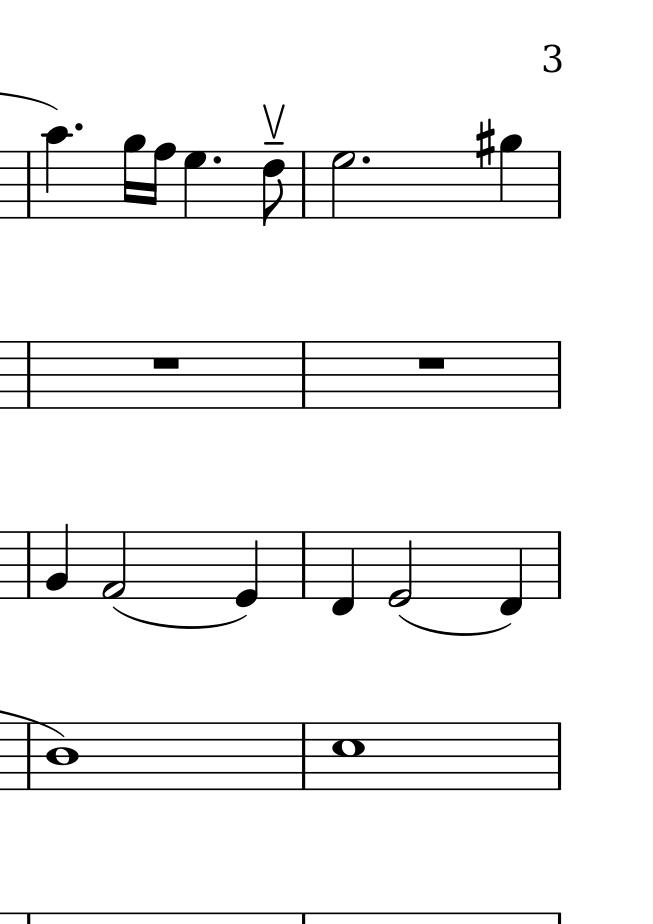16_8: (146, 142, 176, 219)
16_9: (121, 131, 144, 224)
1_4: (45, 719, 80, 792)
1_5: (330, 719, 365, 792)
2_0: (387, 529, 414, 609)
2_1: (101, 530, 128, 601)
2_7: (330, 151, 355, 218)
3: (542, 43, 564, 74)
4_-1: (498, 530, 523, 618), (331, 528, 355, 618)
4_0: (234, 530, 261, 611)
4_10: (43, 124, 69, 222)
4_2: (44, 522, 70, 601)
4_7: (182, 149, 207, 220)
8_6: (261, 149, 287, 228)
8_9: (498, 133, 522, 222)
Rests1: (148, 354, 182, 371), (414, 354, 447, 371)
Sharp: (474, 117, 496, 170)
Single_barline: (551, 341, 567, 409), (551, 532, 567, 599), (551, 722, 567, 788), (296, 724, 312, 788), (552, 152, 567, 219), (20, 533, 35, 597), (296, 534, 311, 598), (297, 152, 311, 218), (21, 341, 35, 407), (20, 732, 36, 789), (21, 152, 35, 217), (297, 344, 311, 408)
Slur: (110, 603, 246, 631), (398, 614, 510, 638)
Tremolo_bar: (260, 99, 288, 137)
dot: (359, 152, 372, 166), (72, 120, 84, 134), (210, 153, 222, 166)
